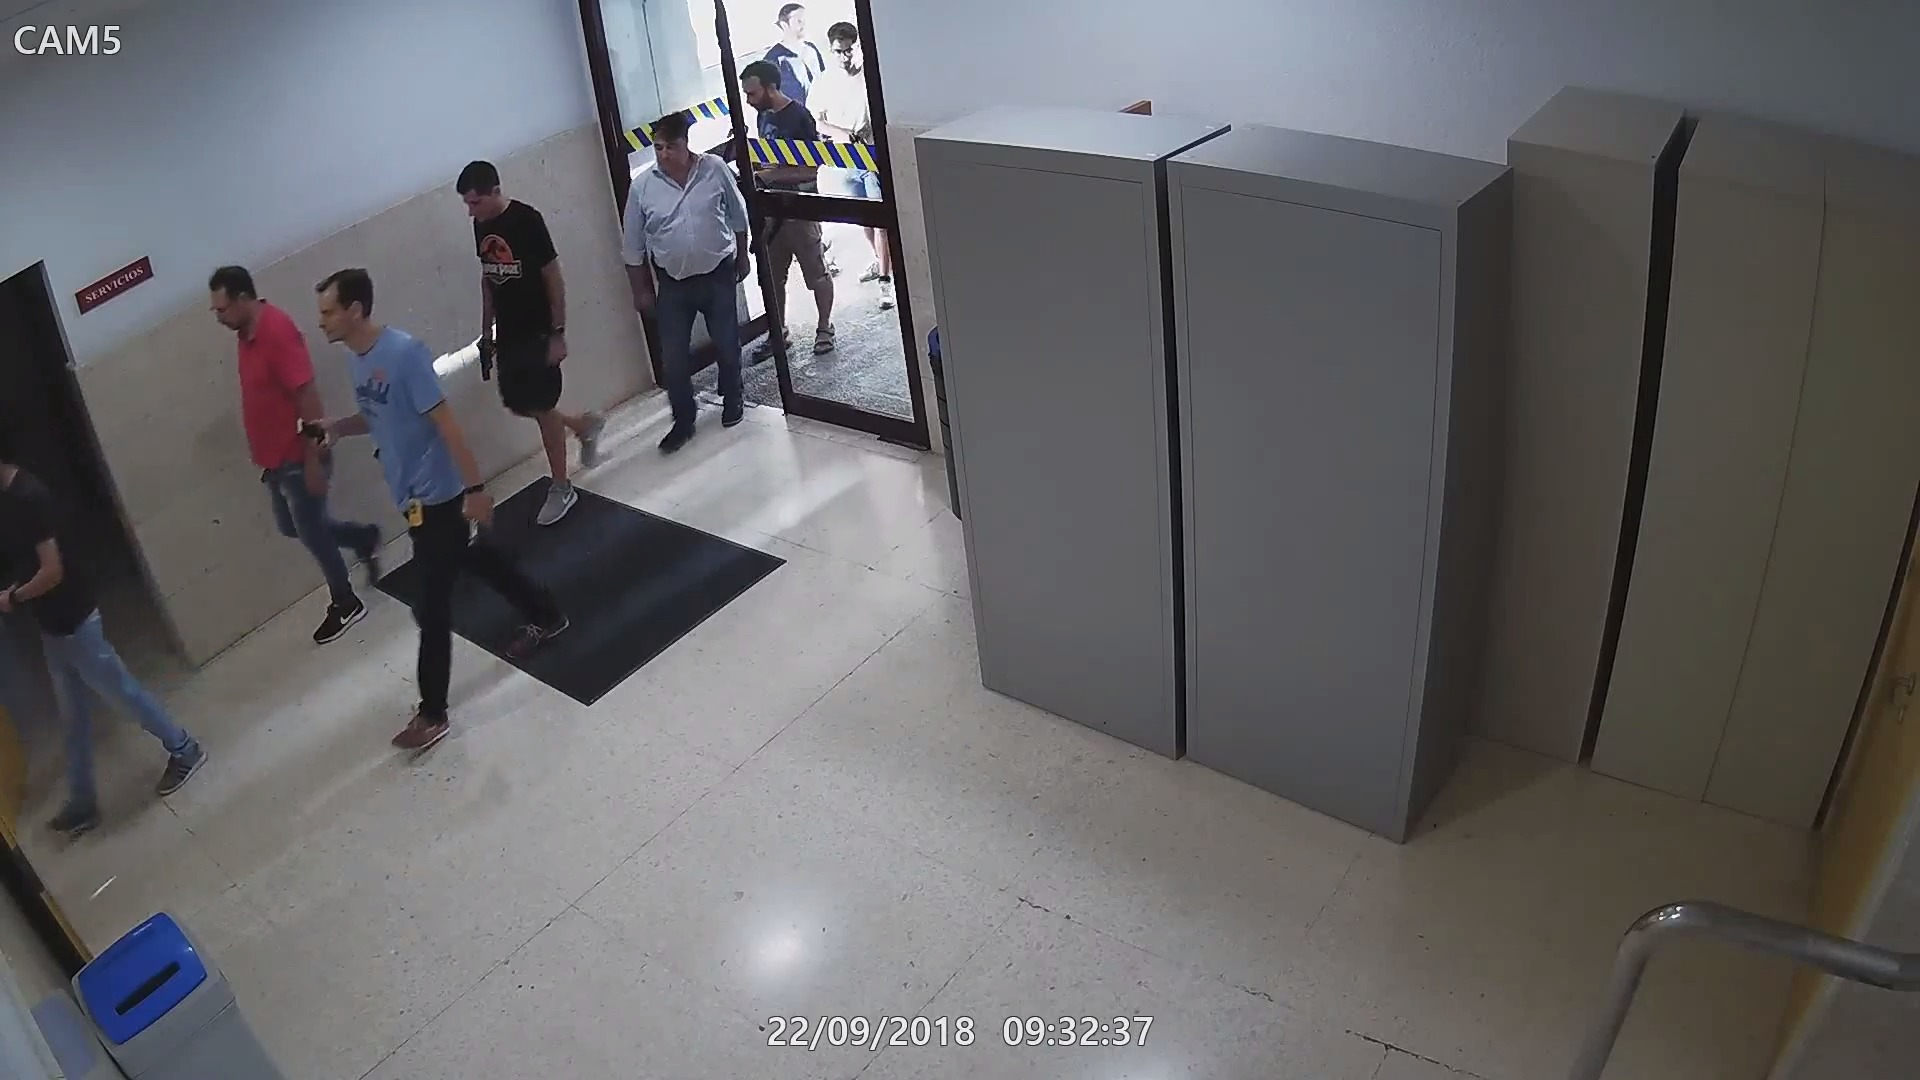Handgun: (458, 491, 502, 549), (473, 324, 498, 378)
Knife: (469, 495, 496, 556)
